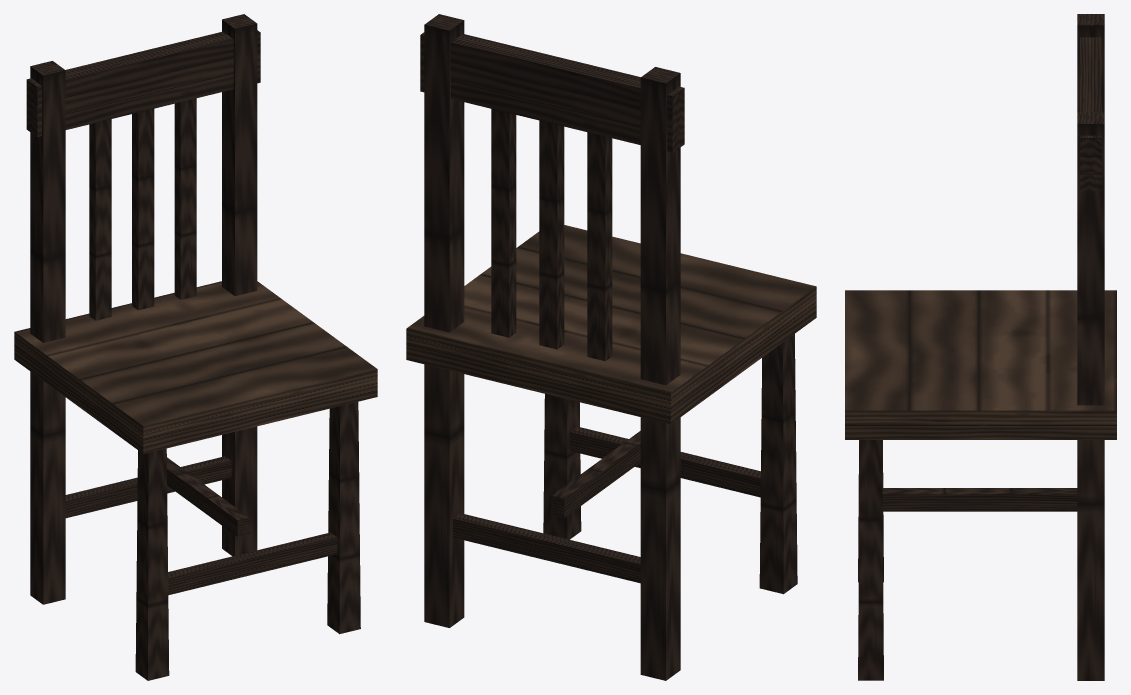
File: PSXH_Chair.obj
3 renders of one model, left to right at view 1: azimuth 30°, elevation 25°; view 2: azimuth 150°, elevation 25°; view 3: azimuth 270°, elevation 25°, orthographic. The views are drawn at different scales.
Parts seen in each view (by area): view 1: PSXH_Chair; view 2: PSXH_Chair; view 3: PSXH_Chair.
Boxes of the visible parts, x1,y1,x2,y2 form: PSXH_Chair: (14, 14, 377, 680); PSXH_Chair: (406, 14, 816, 680); PSXH_Chair: (845, 14, 1116, 680).
Size of the model in its own units: 0.44 by 0.95 by 0.42.
1 material, 1 textured.
